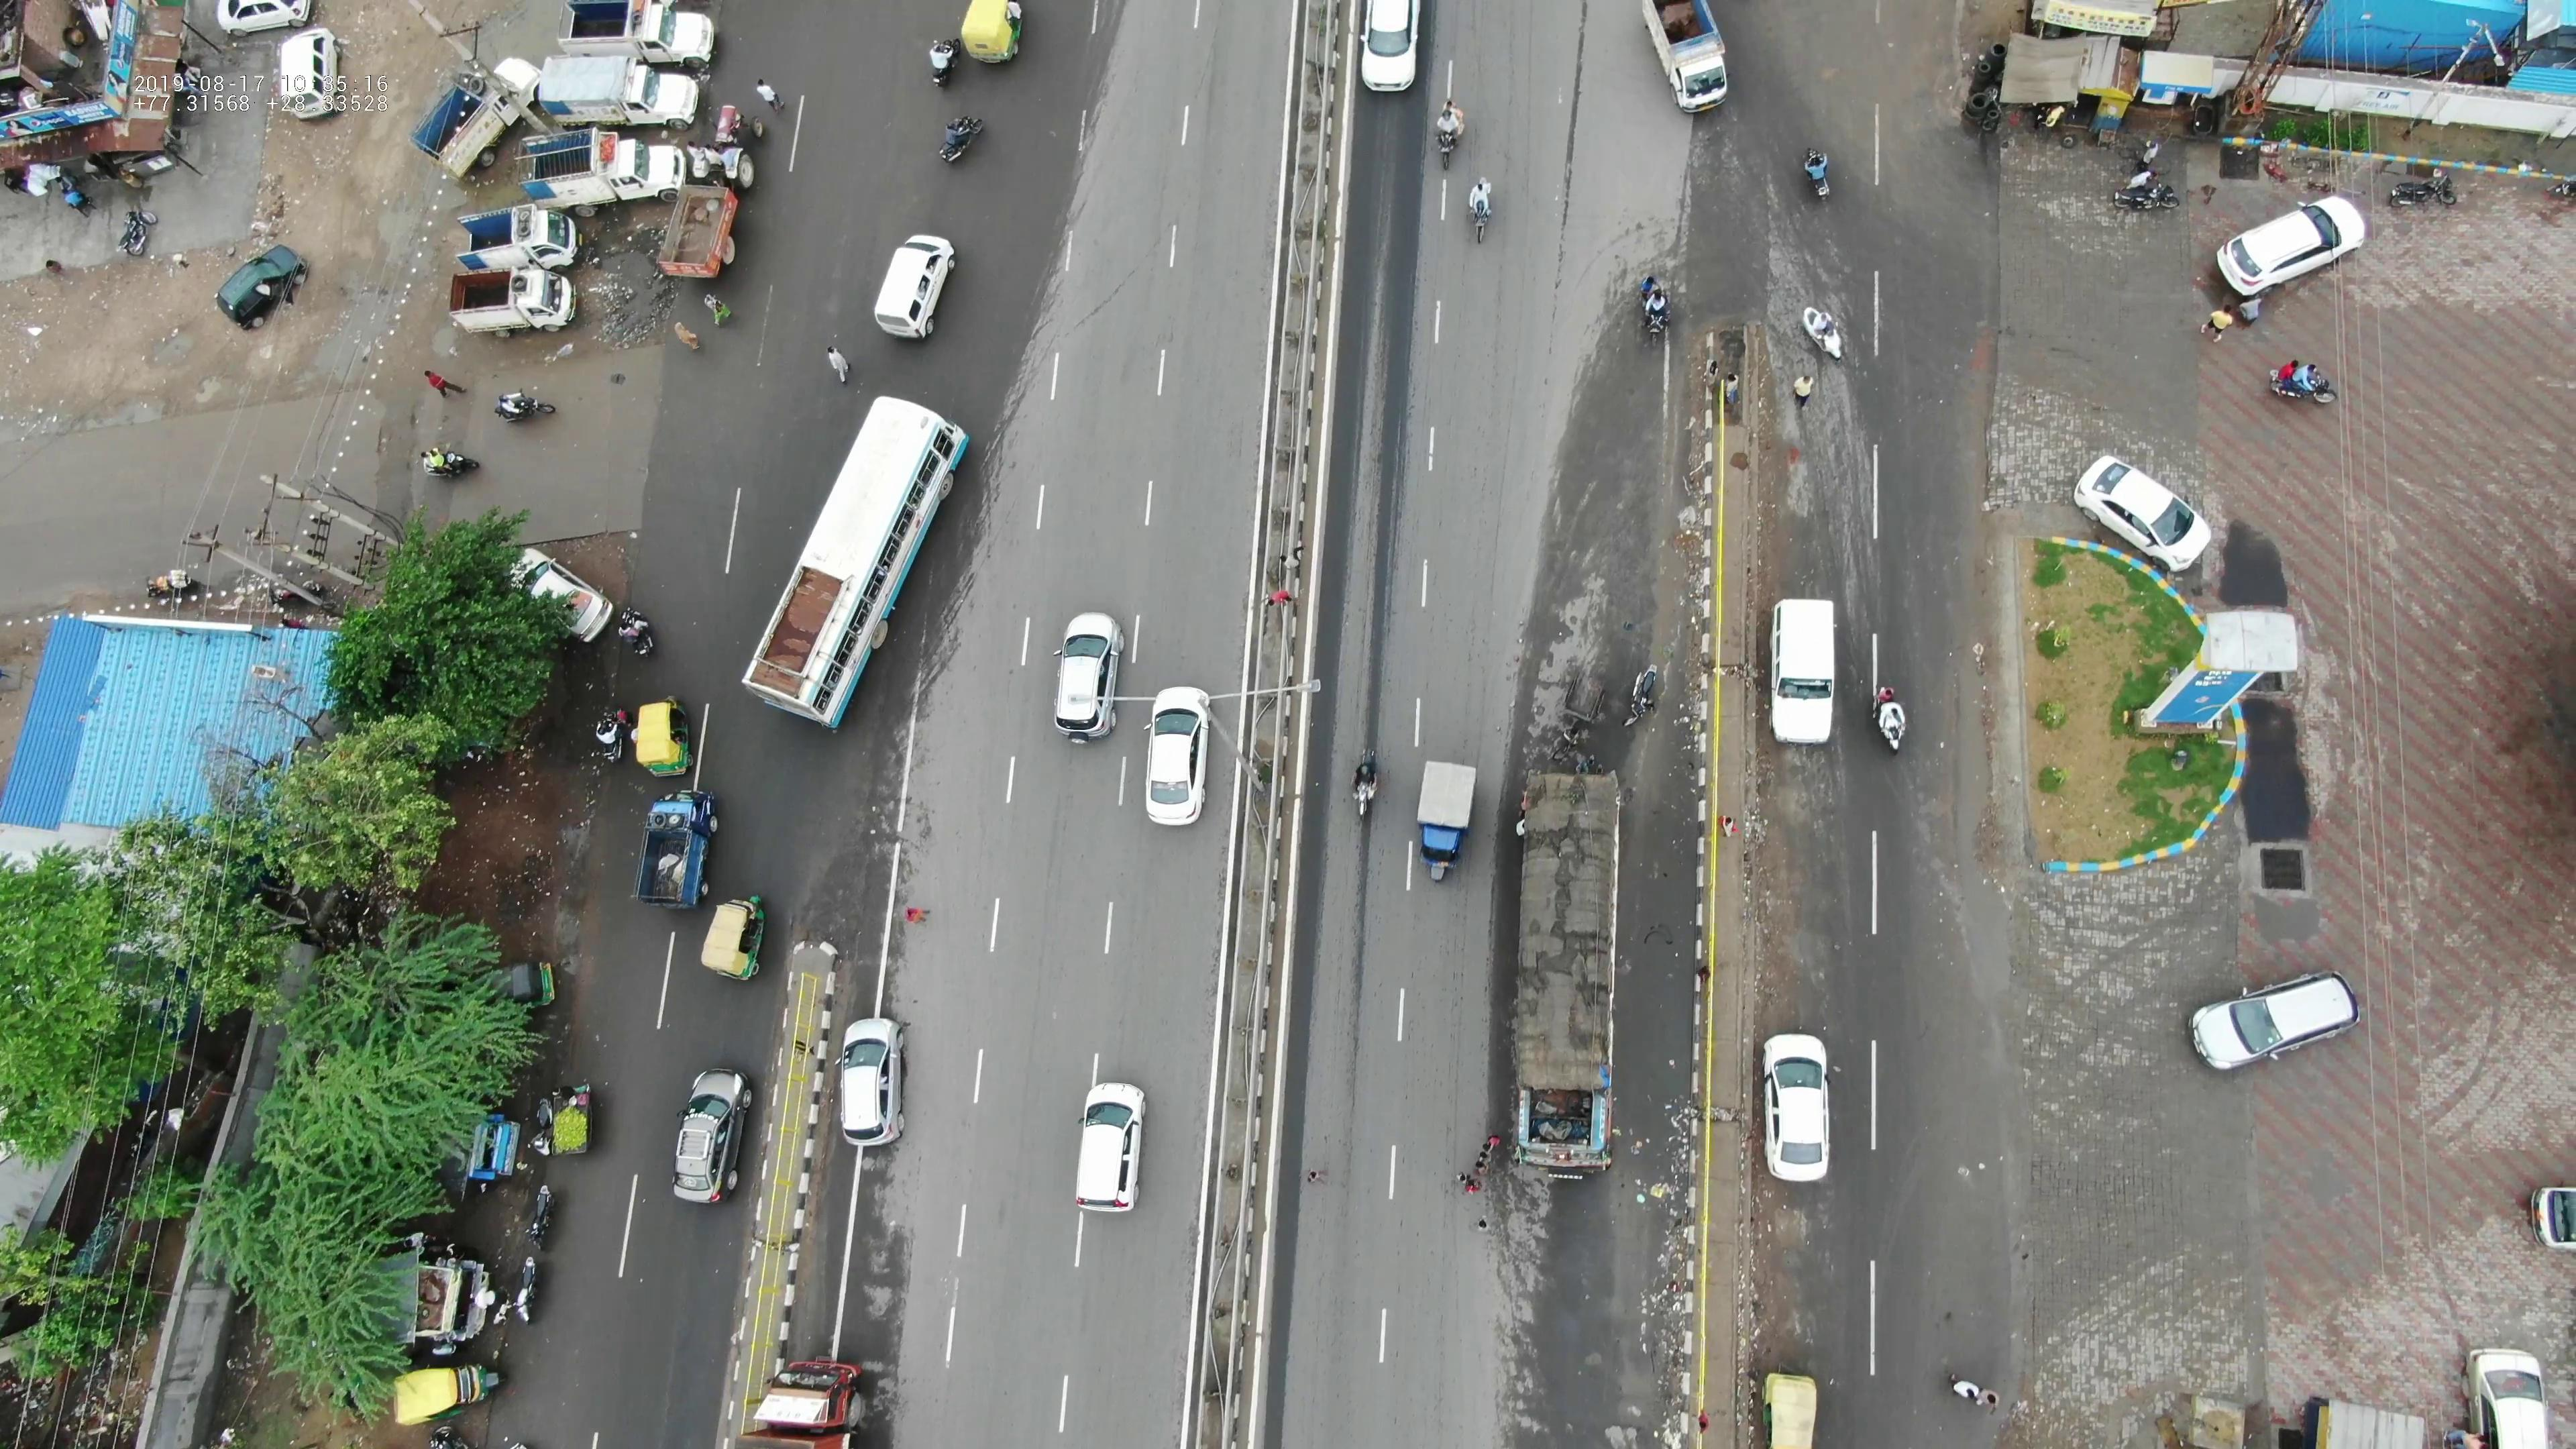Muddy_road: (472, 761, 573, 918)
